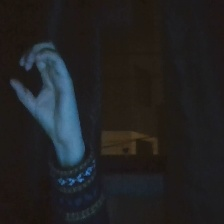C: (6, 39, 87, 142)
